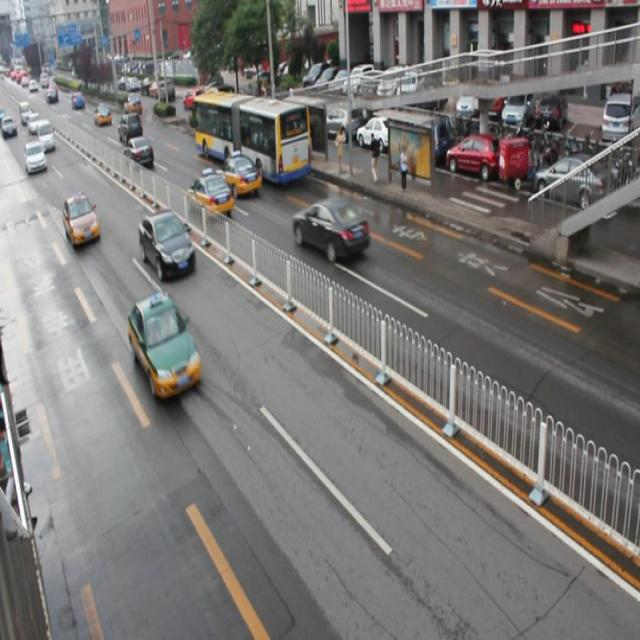car: (129, 289, 200, 398), (291, 197, 370, 264), (139, 208, 196, 278), (187, 166, 232, 218), (220, 148, 260, 196), (63, 194, 99, 247), (123, 137, 154, 165), (120, 112, 143, 143)
van: (195, 84, 311, 184)
